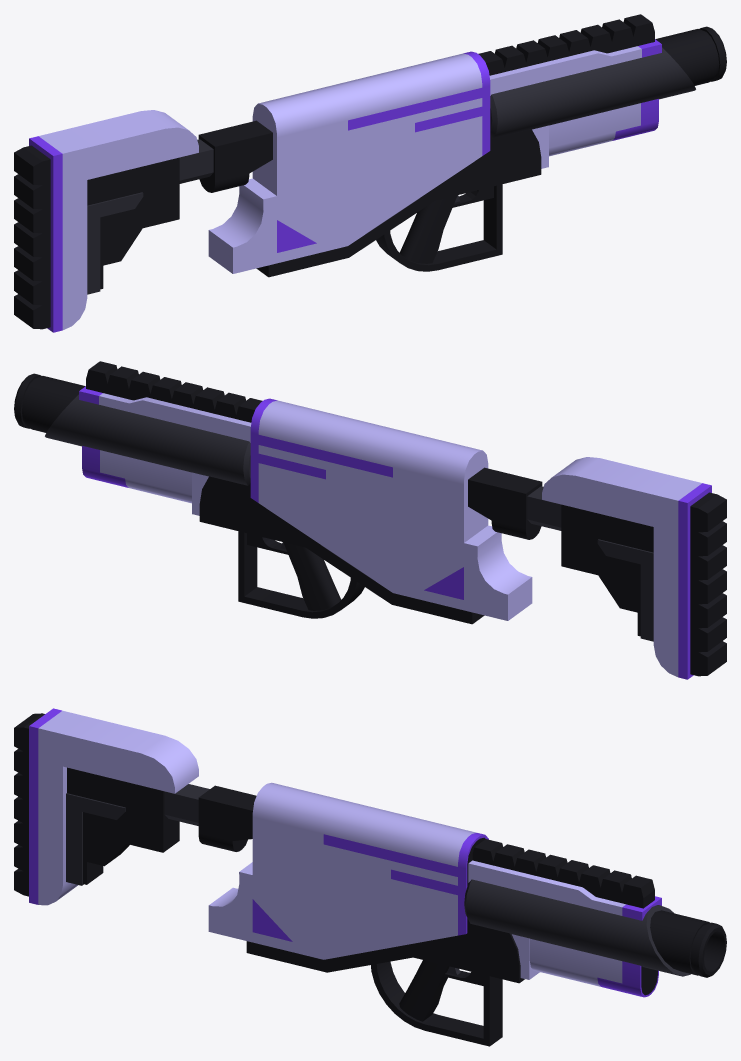
File: trou_noir.glb
The picture shows the model from 3 angles, top to bottom: view 1: azimuth 30°, elevation 25°; view 2: azimuth 150°, elevation 25°; view 3: azimuth 330°, elevation 25°; orthographic projection.
Parts seen in each view (by area): view 1: Grenade_1_3, Grenade_1_1, Grenade_1_2, Grenade_1_4; view 2: Grenade_1_3, Grenade_1_1, Grenade_1_2, Grenade_1_4; view 3: Grenade_1_3, Grenade_1_1, Grenade_1_2, Grenade_1_4.
Part boxes in pixels (x1,y1,x2,y2): Grenade_1_3: (39, 46, 641, 329); Grenade_1_1: (14, 14, 726, 329); Grenade_1_2: (87, 47, 695, 294); Grenade_1_4: (29, 39, 661, 332); Grenade_1_3: (99, 393, 701, 676); Grenade_1_1: (14, 361, 726, 676); Grenade_1_2: (45, 394, 653, 641); Grenade_1_4: (79, 386, 711, 679); Grenade_1_3: (38, 710, 625, 986); Grenade_1_1: (14, 713, 726, 1046); Grenade_1_2: (66, 784, 690, 976); Grenade_1_4: (29, 708, 661, 997).
Bounding box in the file's own units: 1.81 × 0.5339 × 0.1459.
